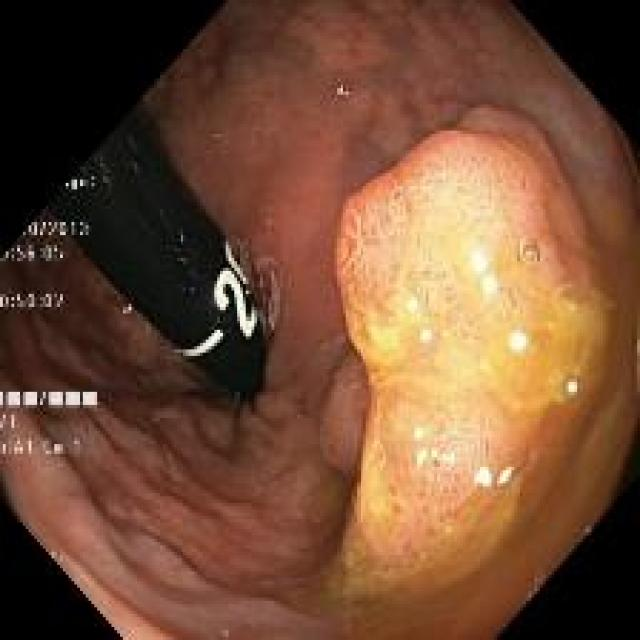Polyps: (336, 111, 609, 594), (318, 349, 369, 476)
